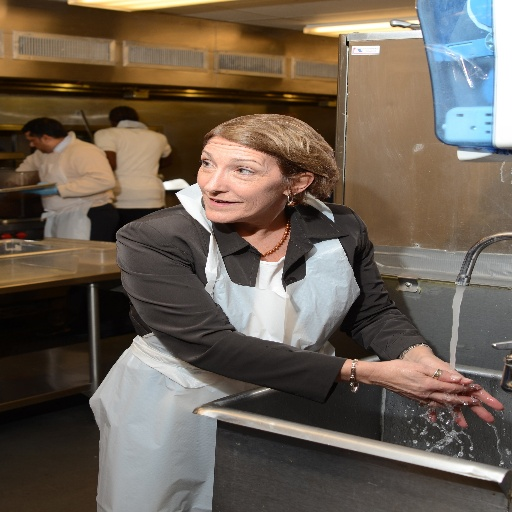hand: (410, 355, 508, 430), (364, 356, 487, 410), (22, 182, 58, 195)
